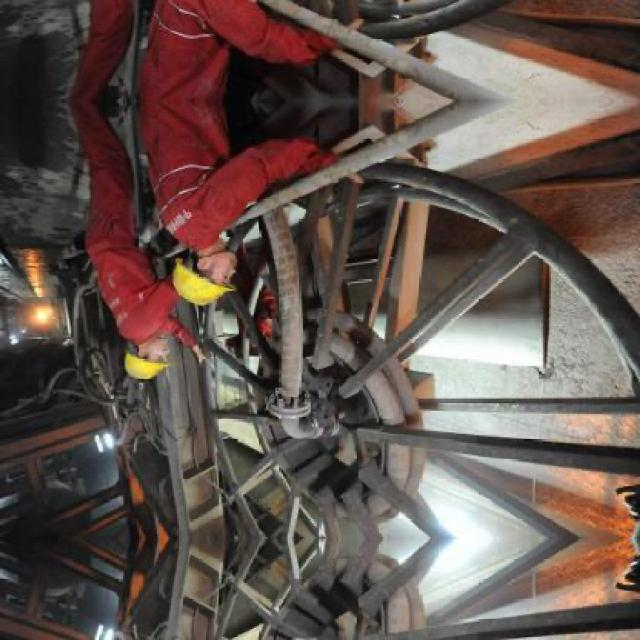con casco: (155, 228, 289, 308), (91, 285, 182, 388)
